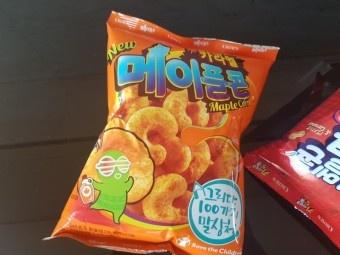snack: (41, 9, 281, 255)
